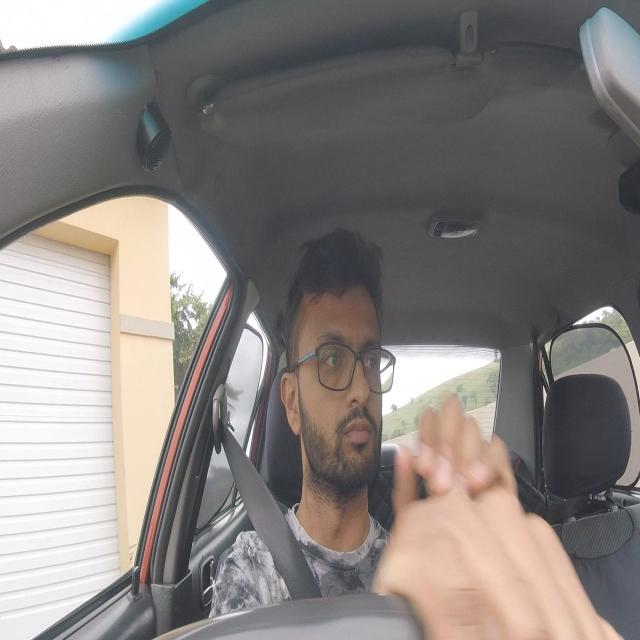open: (315, 327, 352, 381), (354, 330, 382, 380)
